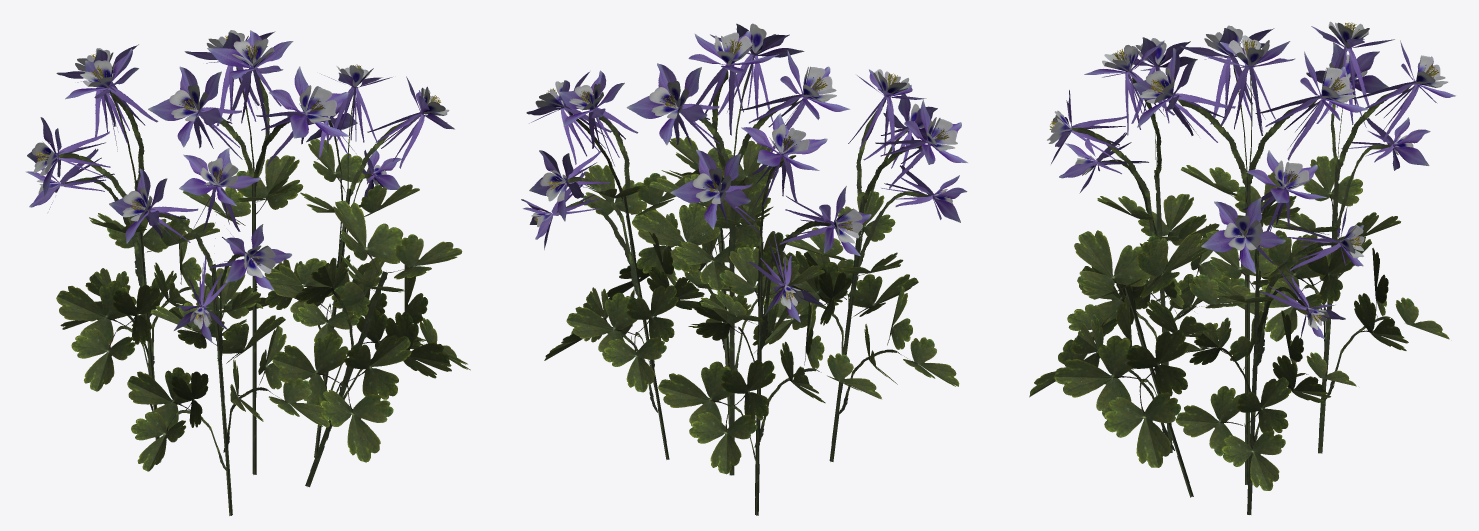
File: columbinebush.gltf
The picture shows the model from 3 angles, left to right: view 1: azimuth 30°, elevation 25°; view 2: azimuth 150°, elevation 25°; view 3: azimuth 270°, elevation 25°; orthographic projection. The views are drawn at different scales.
Visible parts, largest first — view 1: Leaves; view 2: Leaves; view 3: Leaves.
Boxes of the visible parts, x1,y1,x2,y2 form: Leaves: (25, 30, 470, 515); Leaves: (521, 23, 967, 515); Leaves: (1029, 21, 1455, 514).
Bounding box in the file's own units: 0.5725 × 0.6092 × 0.5494.
Materials: 1 (1 with a texture image).
